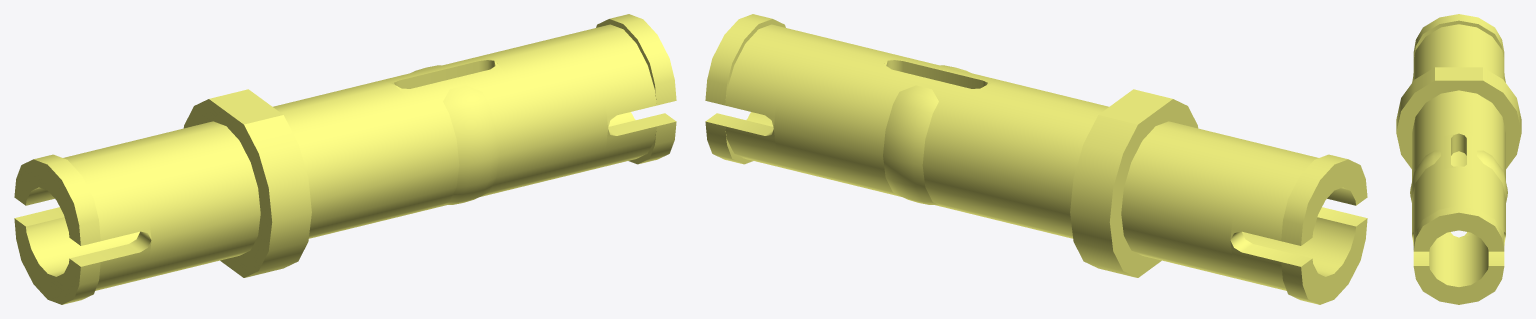
3 renders of one model, left to right at view 1: azimuth 30°, elevation 25°; view 2: azimuth 150°, elevation 25°; view 3: azimuth 270°, elevation 25°, orthographic. The views are drawn at different scales.
Visible parts, largest first — view 1: 39888.dat; view 2: 39888.dat; view 3: 39888.dat.
Part boxes in pixels (x1=…): 39888.dat: x1=14, y1=14, x2=676, y2=304; 39888.dat: x1=705, y1=14, x2=1367, y2=304; 39888.dat: x1=1396, y1=14, x2=1521, y2=304.
Bounding box in the file's own units: 0.024 × 0.00591 × 0.0064.
